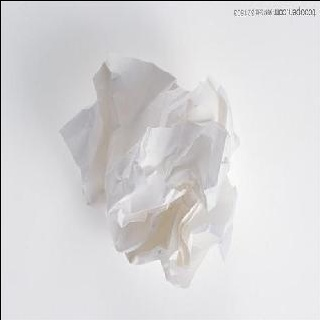8/可回收垃圾/纸: (60, 57, 239, 287)
